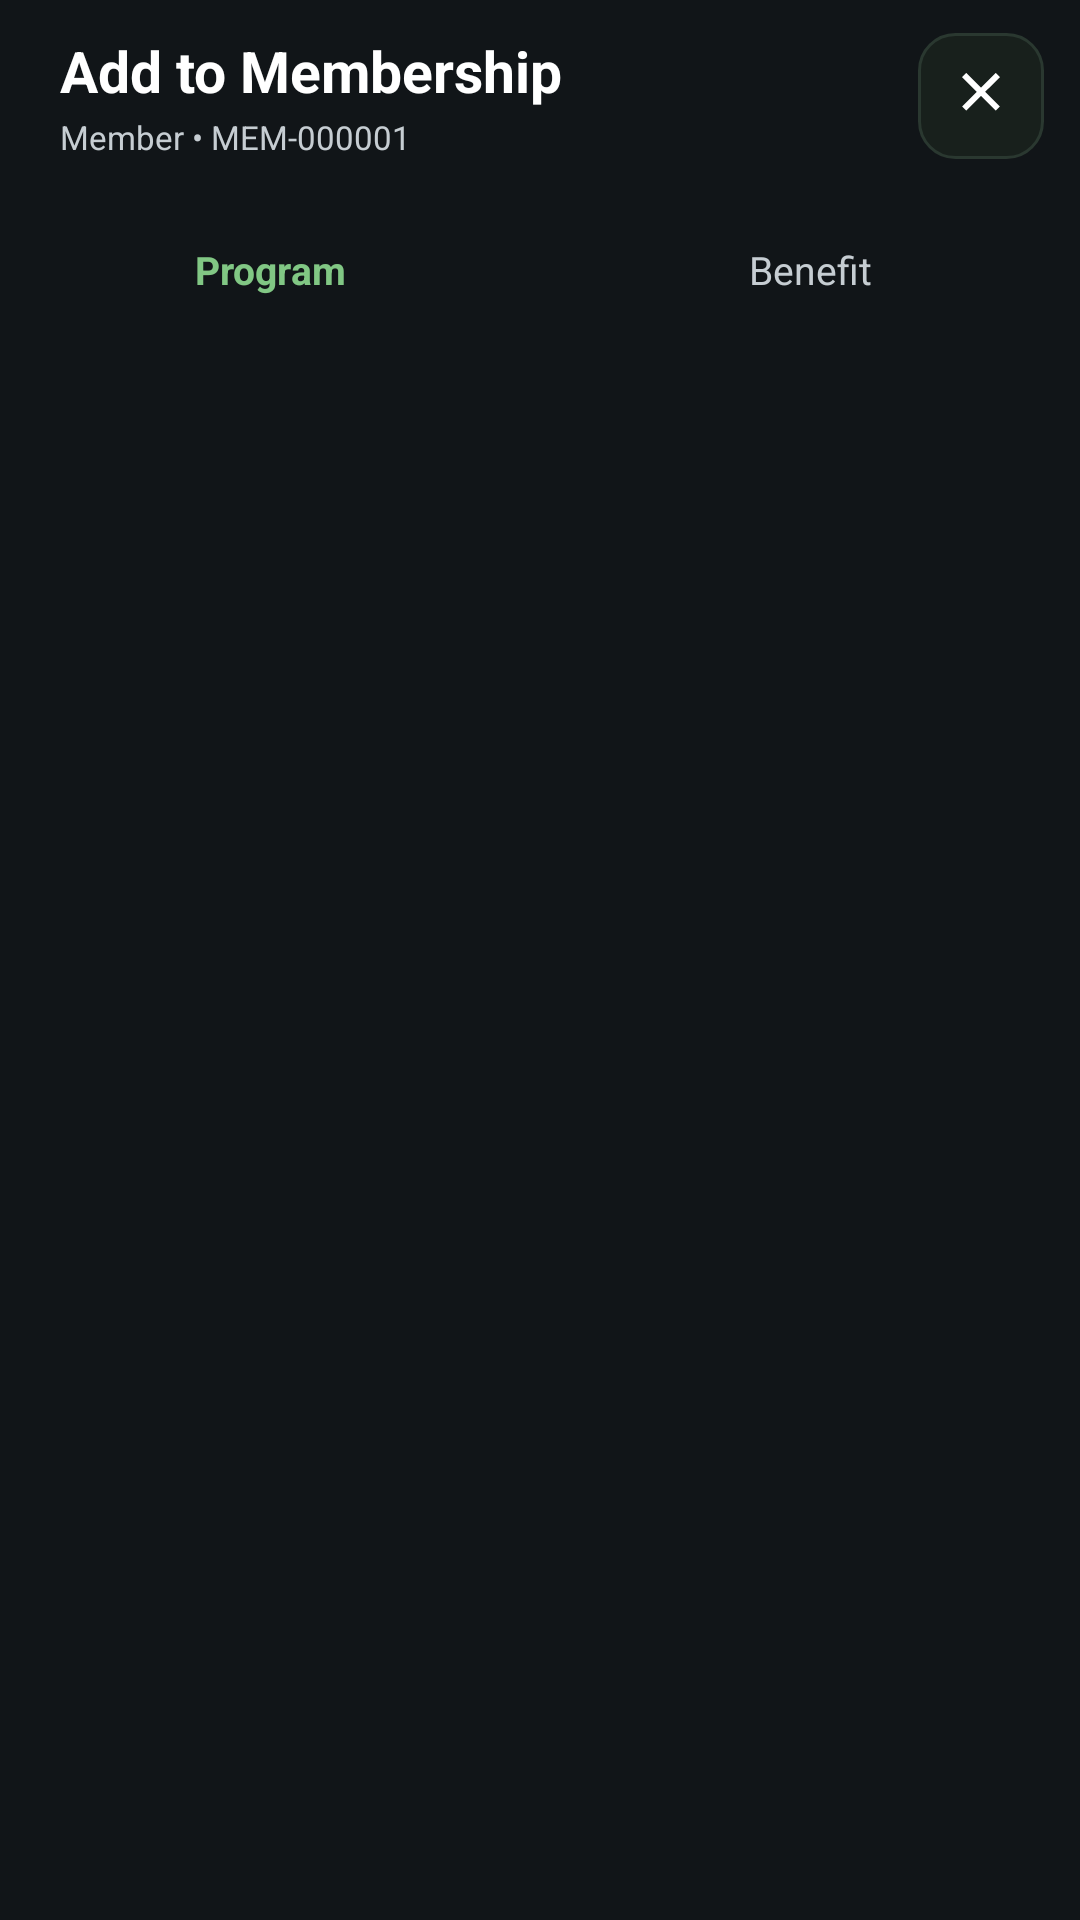

Named icons in this screenshot (1080px×1920px) and their centers, [x,y]:
Close: [981,96]
